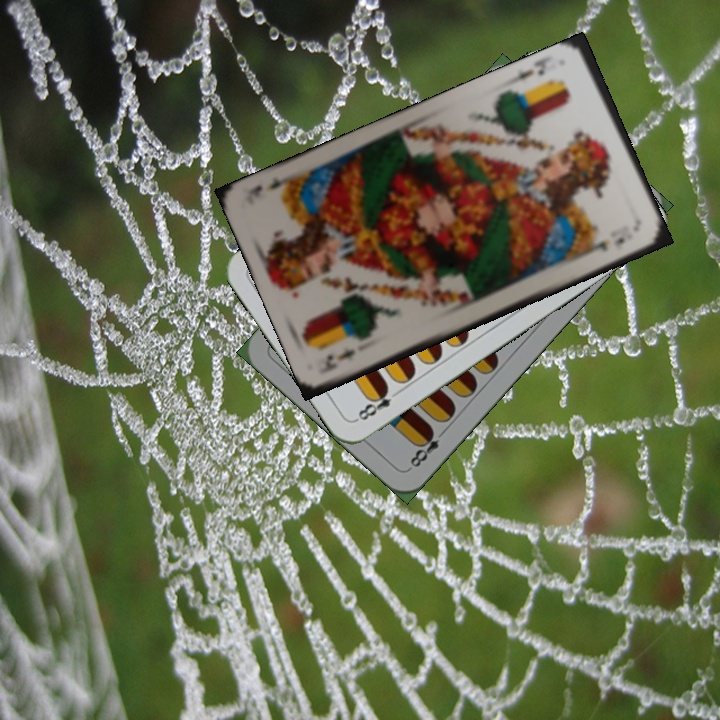E8: (405, 424, 450, 472), (352, 383, 404, 424)
EK: (510, 54, 555, 86), (319, 343, 358, 374)
